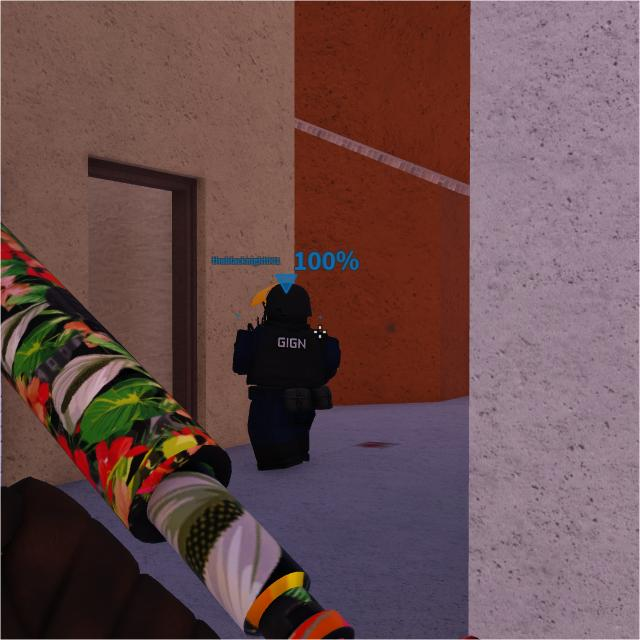Head: (266, 286, 312, 328)
Player: (233, 285, 343, 467)
